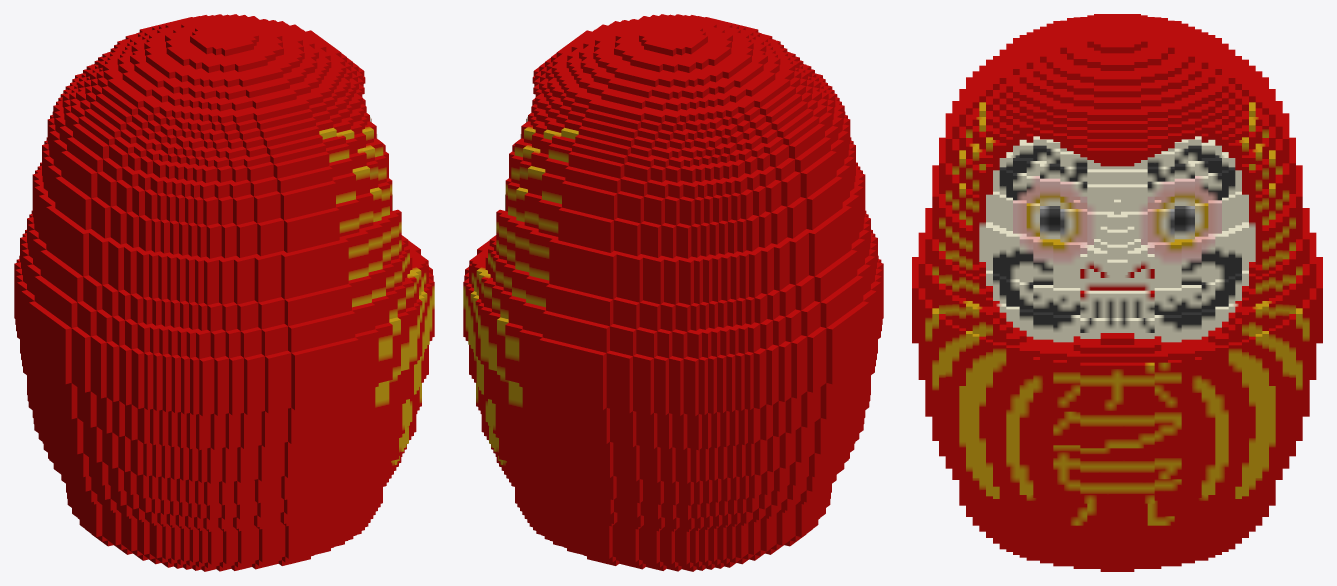
The model's file is daruma.dae.
The picture shows the model from 3 angles, left to right: view 1: azimuth 30°, elevation 25°; view 2: azimuth 150°, elevation 25°; view 3: azimuth 270°, elevation 25°; orthographic projection.
Parts seen in each view (by area): view 1: model-material; view 2: model-material; view 3: model-material.
Part boxes in pixels (<box>): model-material: <box>14,14,434,571</box>; model-material: <box>463,14,883,571</box>; model-material: <box>912,14,1322,571</box>.
Bounding box in the file's own units: 0.61 × 0.61 × 0.78.
1 material, 1 textured.
